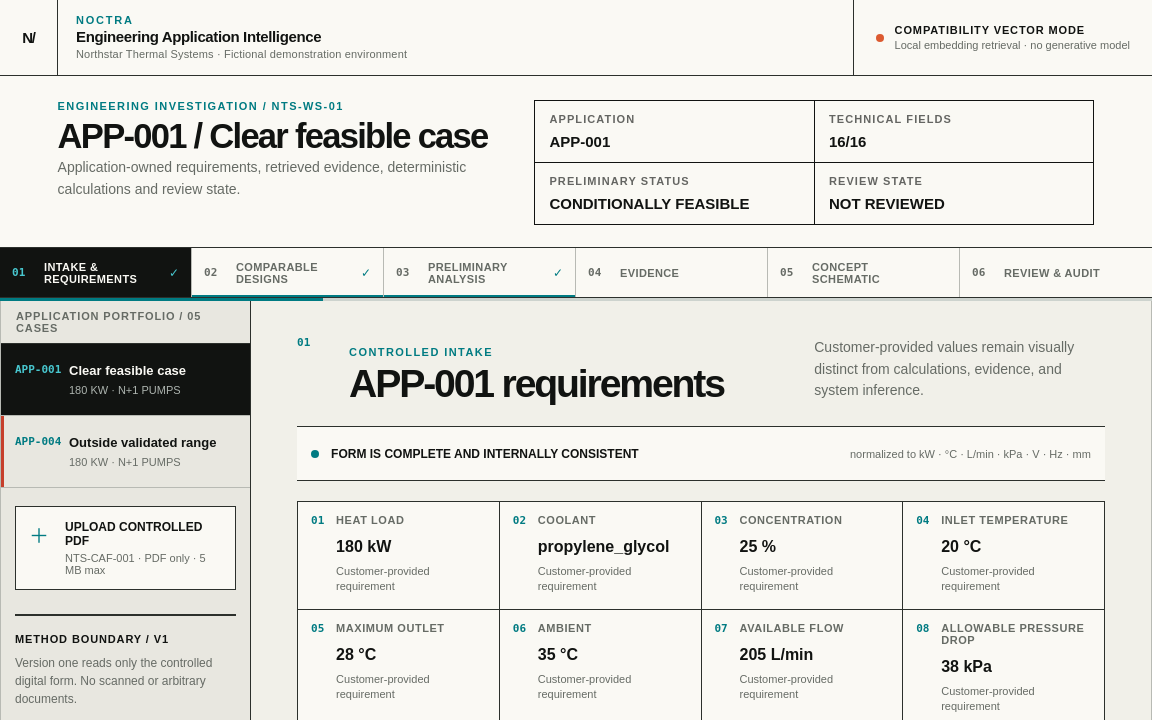
workspace › discards a late schematic response after APP-001 to APP-004 switching
Check: the heading "APP-001 requirements" is shown, box [349,362,724,405]
Click the button "05 Concept schematic": (864, 272) [768,248,960,297]
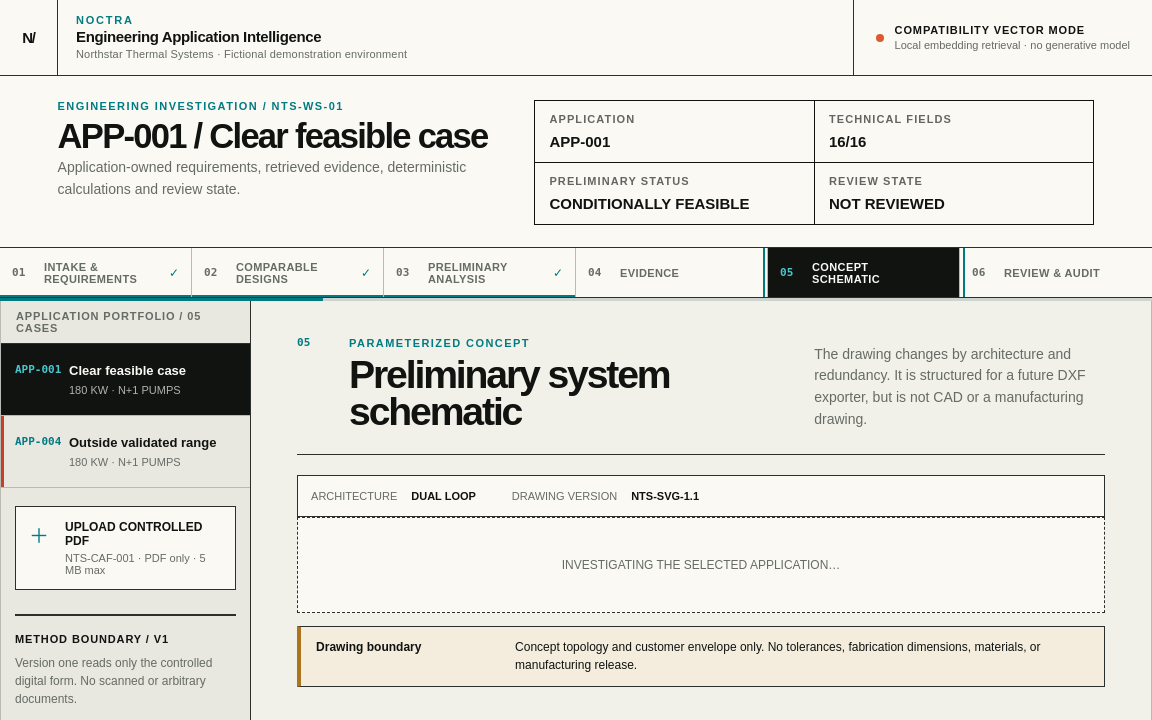
Click the button "APP-004 Outside validated range 180 kW · n+1 pumps": (126, 452) [1,416,250,488]
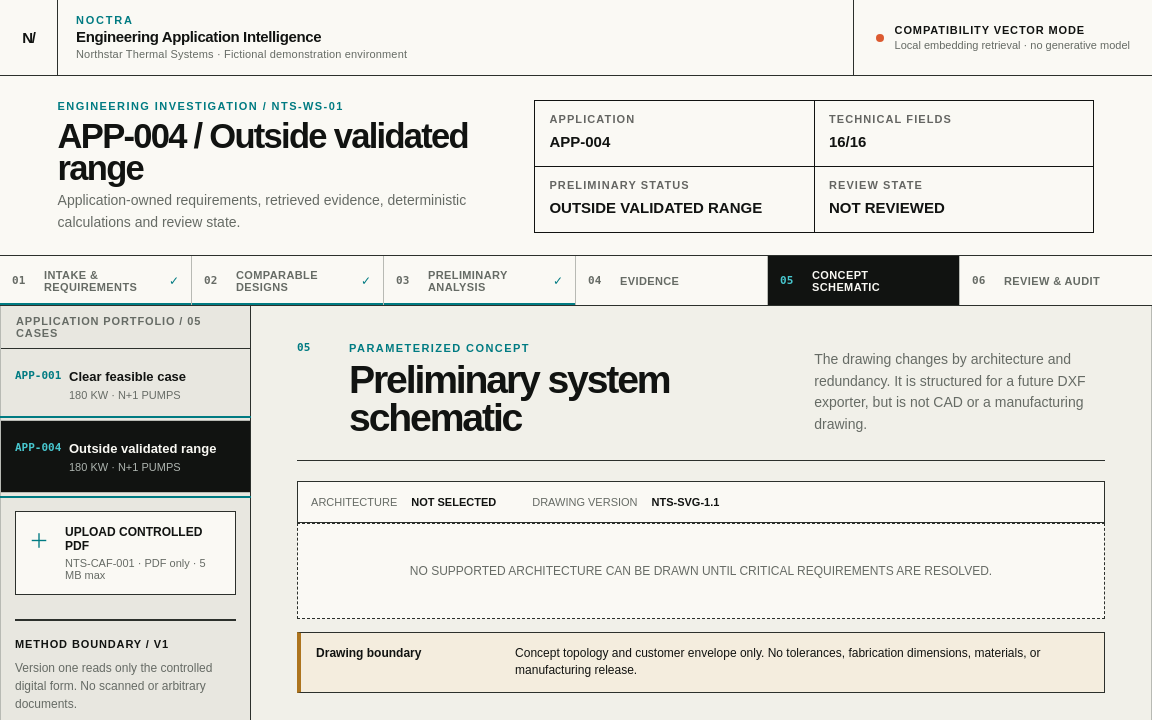
Check: the text "Not Selected" is shown, box [411,496,496,508]
